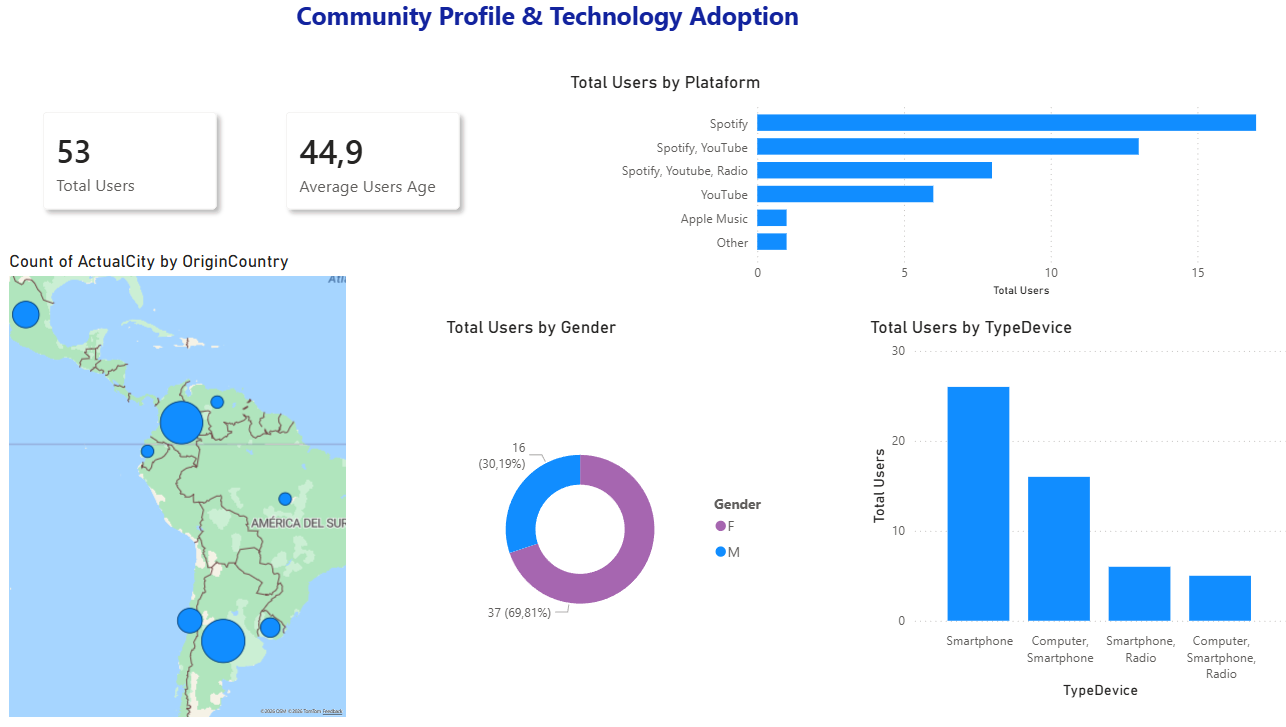

What the dashboard file says about the page in this screenshot:
{"tool":"powerbi","page":{"name":"User Analytics","canvas":[1280,720],"ordinal":0},"visuals":[{"type":"azureMap","fields":{"Category":["Users.OriginCountry Hierarchy.OriginCountry","Users.OriginCountry Hierarchy.ActualCity"],"Size":["CountNonNull(Users.ActualCity)"]},"box":[13.6,250.9,338.5,458.1],"z":0},{"type":"donutChart","fields":{"Category":["Users.Gender"],"Y":["!Measures.Total Users"]},"box":[438.7,315.1,336.5,393.9],"z":1000},{"type":"cardVisual","fields":{"Data":["!Measures.Total Users"]},"box":[22.4,86.6,227.6,153.7],"z":2000},{"type":"cardVisual","fields":{"Data":["!Measures.AverageAge"]},"box":[258.7,86.6,227.6,153.7],"z":3000},{"type":"clusteredBarChart","fields":{"Y":["!Measures.Total Users"],"Category":["ListHabitsUsers.Plataform"]},"box":[559.3,76.8,720.7,222.7],"z":4000},{"type":"clusteredColumnChart","fields":{"Category":["ListHabitsUsers.TypeDevice"],"Y":["!Measures.Total Users"]},"box":[851.1,315.1,414.3,375.4],"z":5000},{"type":"textbox","box":[292.8,0,518.4,53.5],"z":6000}]}

Visuals, with their boxes in screenshot pixels (x1, y1, x2, y2), scaled from the page's 1280x720 canvas onto the 1286x727 screenshot:
azureMap - Users.OriginCountry Hierarchy.OriginCountry x Users.OriginCountry Hierarchy.ActualCity: x1=14 y1=253 x2=354 y2=716
donutChart - Users.Gender x !Measures.Total Users: x1=441 y1=318 x2=779 y2=716
cardVisual - !Measures.Total Users: x1=23 y1=87 x2=251 y2=243
cardVisual - !Measures.AverageAge: x1=260 y1=87 x2=489 y2=243
clusteredBarChart - !Measures.Total Users x ListHabitsUsers.Plataform: x1=562 y1=78 x2=1285 y2=302
clusteredColumnChart - ListHabitsUsers.TypeDevice x !Measures.Total Users: x1=855 y1=318 x2=1271 y2=697
textbox: x1=294 y1=0 x2=815 y2=54
